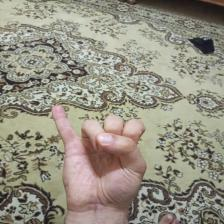five: (46, 101, 156, 218)
